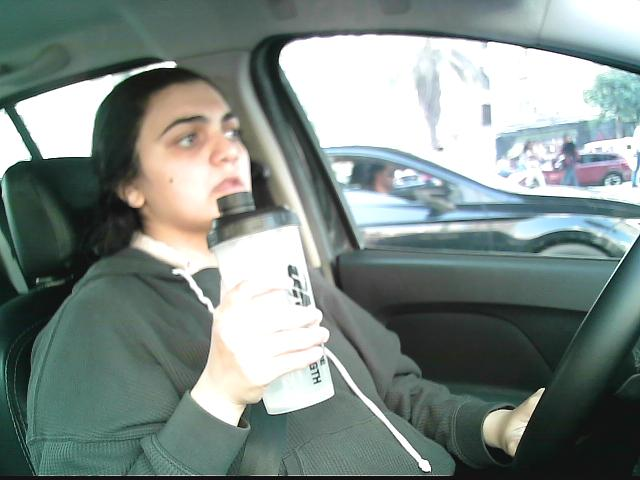Drinking: (115, 76, 334, 398)
